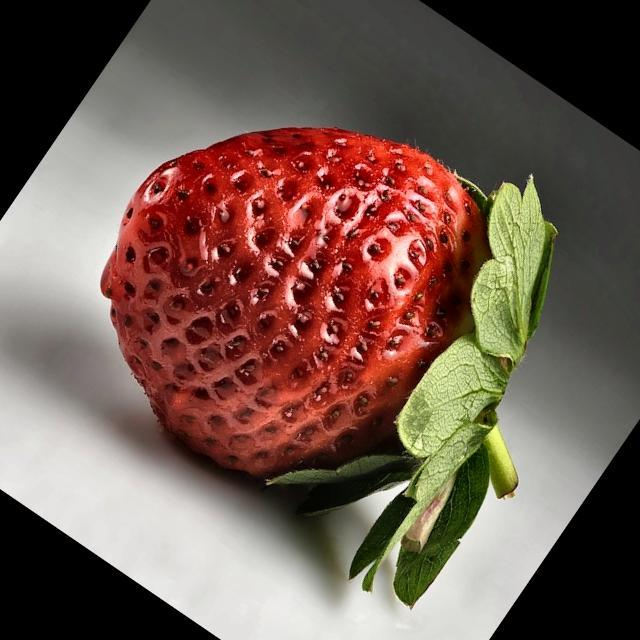strawberry: (101, 128, 556, 604)
